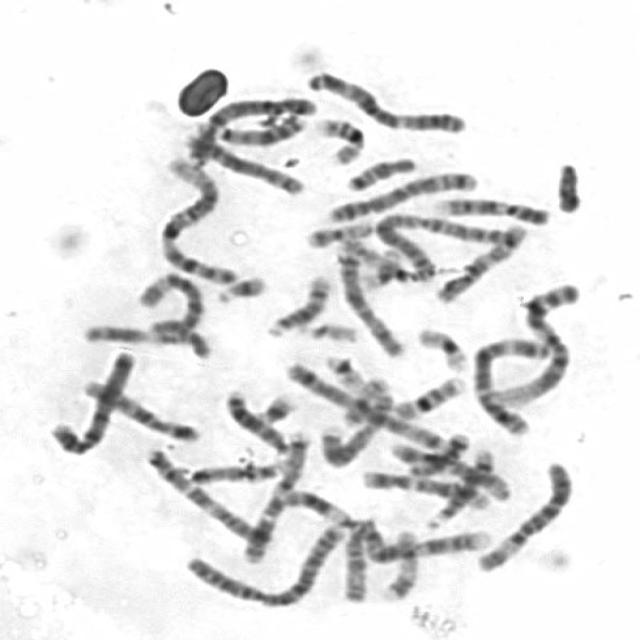A1: (150, 148, 240, 288), (492, 276, 584, 410)
A2: (176, 516, 350, 610), (362, 205, 529, 286)
A3: (297, 62, 470, 134), (464, 330, 551, 437)
B4: (40, 342, 140, 456), (178, 87, 318, 165)
B5: (277, 355, 466, 465), (320, 164, 481, 224)
C10: (73, 371, 204, 445), (428, 217, 529, 305)
C11: (356, 521, 496, 567), (73, 316, 216, 359)
C12: (383, 434, 513, 502), (355, 463, 495, 510)
C6: (469, 452, 576, 574), (130, 264, 208, 352)
C7: (136, 440, 276, 550), (236, 422, 315, 564)
C8: (176, 121, 308, 198), (312, 396, 395, 469)
C9: (260, 489, 360, 542), (424, 188, 552, 226)
D13: (216, 382, 292, 456), (190, 105, 310, 150)
D14: (417, 442, 499, 532), (258, 267, 334, 339)
D15: (334, 511, 379, 604), (183, 452, 290, 486)
E16: (385, 368, 469, 421), (307, 110, 367, 166)
E17: (329, 231, 431, 283), (372, 523, 421, 603)
E18: (398, 424, 473, 478), (337, 149, 419, 193)
F19: (409, 319, 470, 373), (354, 241, 407, 292)
F20: (333, 371, 395, 428), (299, 212, 376, 250)
G21: (208, 267, 270, 305), (250, 385, 299, 425)
G22: (317, 346, 367, 392), (291, 314, 362, 344)
X: (329, 239, 409, 359)
Y: (547, 154, 585, 215)
